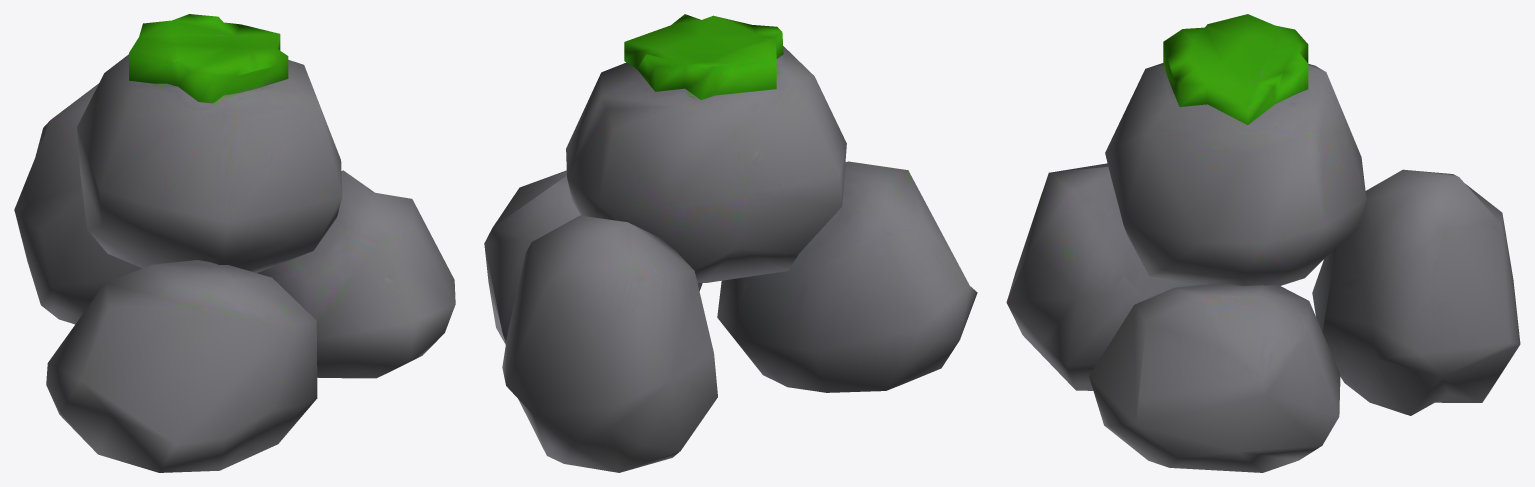
The model's file is rock.glb.
3 renders of one model, left to right at view 1: azimuth 30°, elevation 25°; view 2: azimuth 150°, elevation 25°; view 3: azimuth 270°, elevation 25°, orthographic.
Visible parts, largest first — view 1: tripo_node_5c597ff3-9633-41f3-bcef-59730595d9db; view 2: tripo_node_5c597ff3-9633-41f3-bcef-59730595d9db; view 3: tripo_node_5c597ff3-9633-41f3-bcef-59730595d9db.
Boxes of the visible parts, x1,y1,x2,y2 form: tripo_node_5c597ff3-9633-41f3-bcef-59730595d9db: [14, 14, 455, 472]; tripo_node_5c597ff3-9633-41f3-bcef-59730595d9db: [484, 14, 977, 472]; tripo_node_5c597ff3-9633-41f3-bcef-59730595d9db: [1006, 14, 1520, 472].
Size of the model in its own units: 0.9355 by 0.7598 by 0.998.
1 material, 1 textured.
